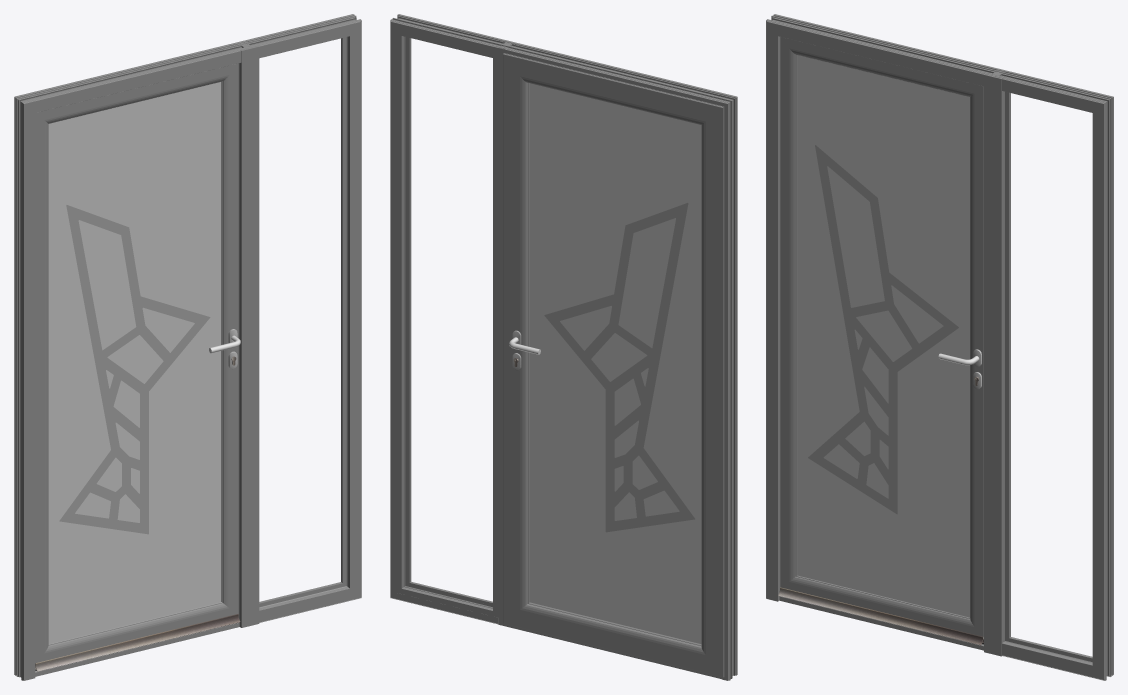
The picture shows the model from 3 angles, left to right: view 1: azimuth 30°, elevation 25°; view 2: azimuth 150°, elevation 25°; view 3: azimuth 330°, elevation 25°; orthographic projection.
Visible parts, largest first — view 1: fosco_27, aroFixo, aroMovel, montanteCentral, transparente_27, bite, borracha, escovas, rodaPe; view 2: fosco_27, aroMovel, aroFixo, transparente_27, bite, montanteCentral, borracha, rodaPe; view 3: fosco_27, aroFixo, aroMovel, montanteCentral, transparente_27, bite, escovas, borracha, rodaPe.
Part boxes in pixels (left/top/right/bottom): fosco_27: left=48, top=82, right=221, bottom=643; aroFixo: left=14, top=14, right=361, bottom=680; aroMovel: left=35, top=63, right=238, bottom=663; montanteCentral: left=238, top=42, right=259, bottom=627; transparente_27: left=59, top=205, right=210, bottom=534; bite: left=259, top=37, right=346, bottom=607; borracha: left=259, top=37, right=345, bottom=606; escovas: left=35, top=614, right=240, bottom=671; rodaPe: left=35, top=622, right=239, bottom=676; fosco_27: left=529, top=83, right=701, bottom=644; aroMovel: left=503, top=53, right=724, bottom=677; aroFixo: left=390, top=14, right=737, bottom=680; transparente_27: left=544, top=203, right=694, bottom=532; bite: left=396, top=29, right=498, bottom=617; montanteCentral: left=498, top=40, right=518, bottom=626; borracha: left=404, top=36, right=492, bottom=608; rodaPe: left=505, top=624, right=721, bottom=679; fosco_27: left=797, top=55, right=969, bottom=617; aroFixo: left=766, top=14, right=1113, bottom=680; aroMovel: left=780, top=37, right=983, bottom=638; montanteCentral: left=984, top=70, right=1004, bottom=656; transparente_27: left=808, top=145, right=958, bottom=514; bite: left=1005, top=91, right=1092, bottom=661; escovas: left=778, top=587, right=983, bottom=645; borracha: left=1006, top=92, right=1092, bottom=660; rodaPe: left=779, top=596, right=983, bottom=650.
Bounding box in the file's own units: 1320 × 2149 × 185.
Materials: 10 (4 with a texture image).
